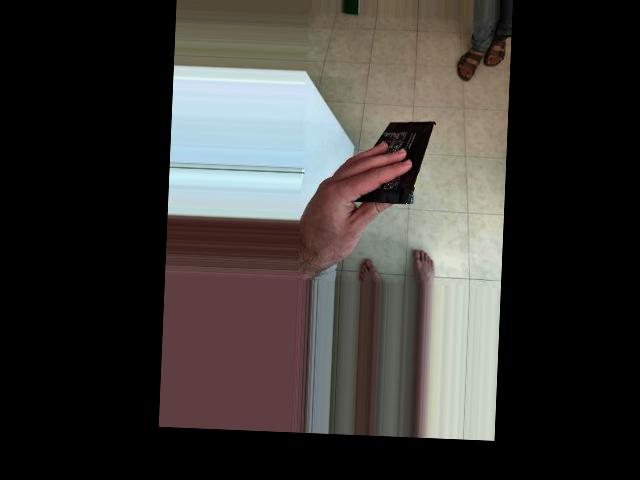chocolate: (340, 111, 437, 208)
